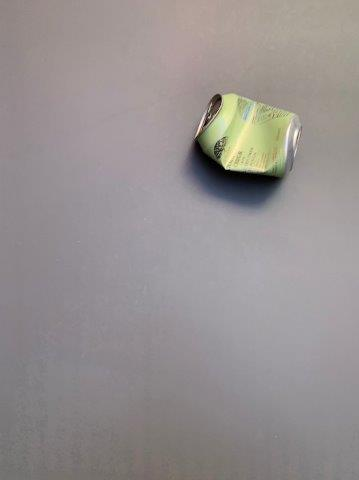kaleng: (195, 92, 303, 179)
